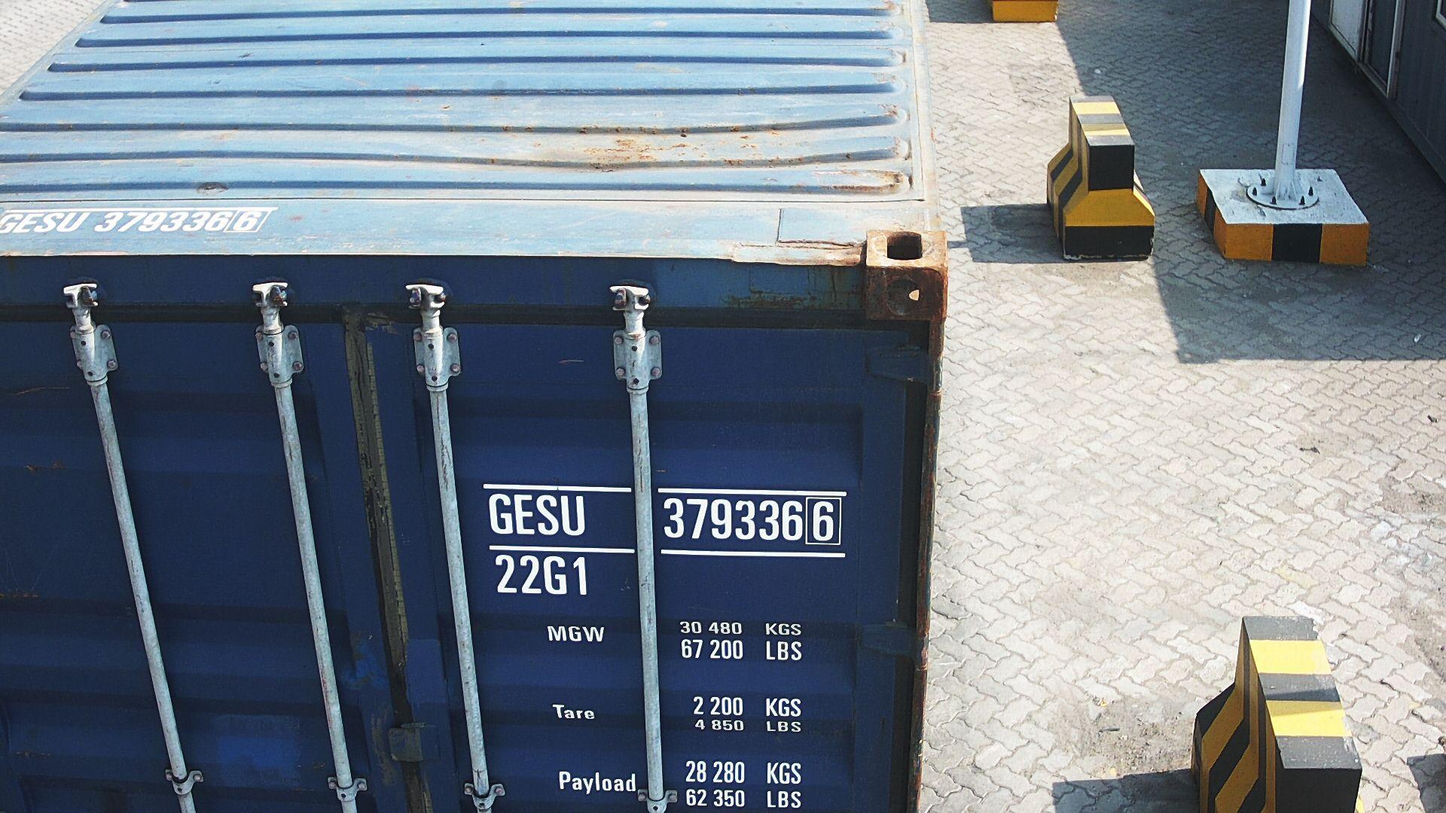container-numbers: (480, 493, 847, 547), (0, 205, 276, 236), (488, 551, 592, 602)
